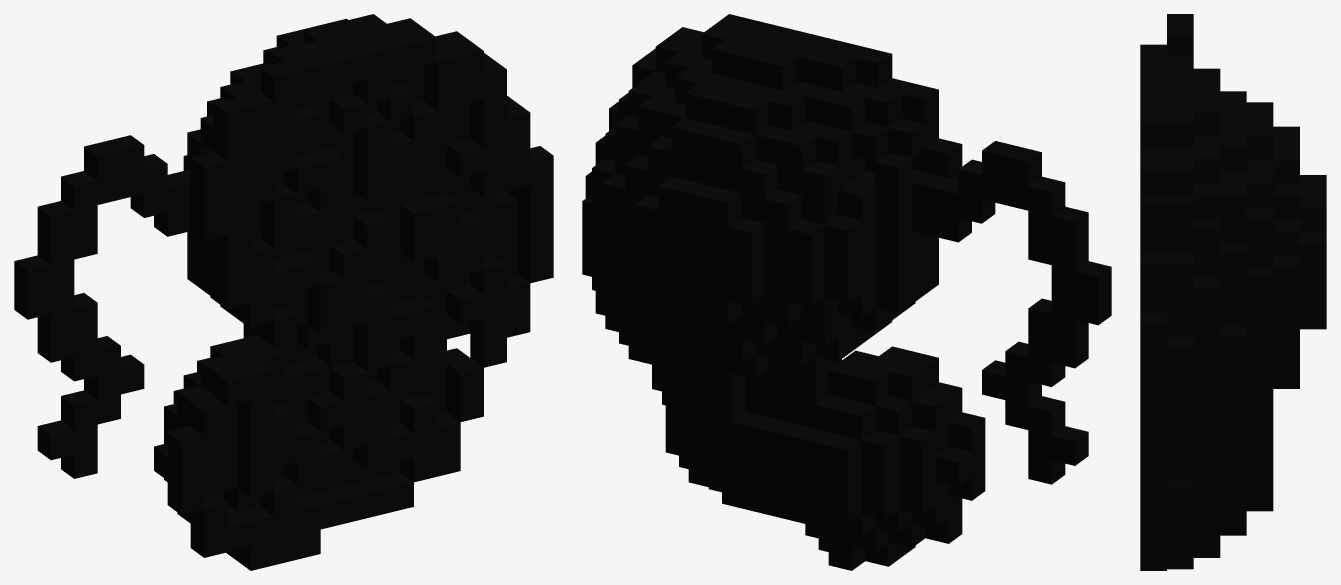
Rendered from Gauge_Stomach_Full.002.fbx.
3 renders of one model, left to right at view 1: azimuth 30°, elevation 25°; view 2: azimuth 150°, elevation 25°; view 3: azimuth 270°, elevation 25°, orthographic.
Visible parts, largest first — view 1: Gauge_Stomach_Full.002; view 2: Gauge_Stomach_Full.002; view 3: Gauge_Stomach_Full.002.
Boxes of the visible parts, x1,y1,x2,y2 form: Gauge_Stomach_Full.002: (14, 14, 553, 570); Gauge_Stomach_Full.002: (582, 14, 1111, 570); Gauge_Stomach_Full.002: (1140, 14, 1326, 570).
Size of the model in its own units: 2.2 by 2 by 0.7.
